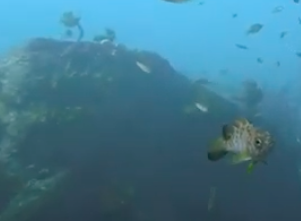mebaru: (200, 115, 279, 173)
